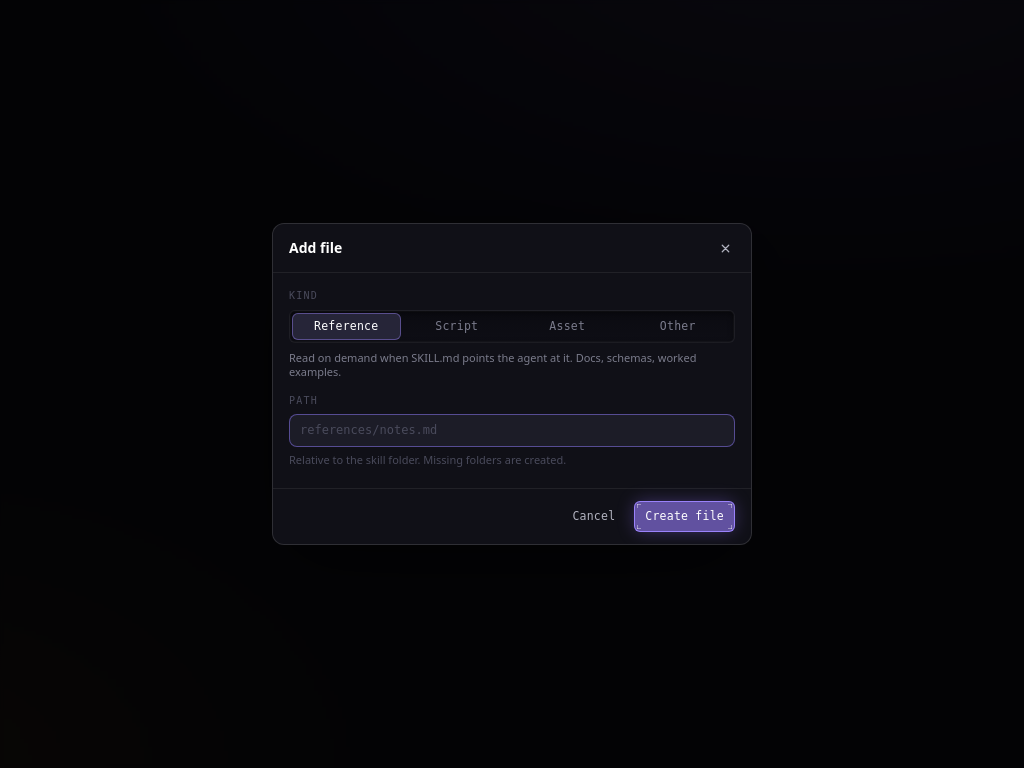
Test: AddSkillFileSheet › refuses an empty name and an escaping name inline, on the input itself
Click the button "Create file". click: (685, 517)
box: x1=634 y1=501 x2=735 y2=532
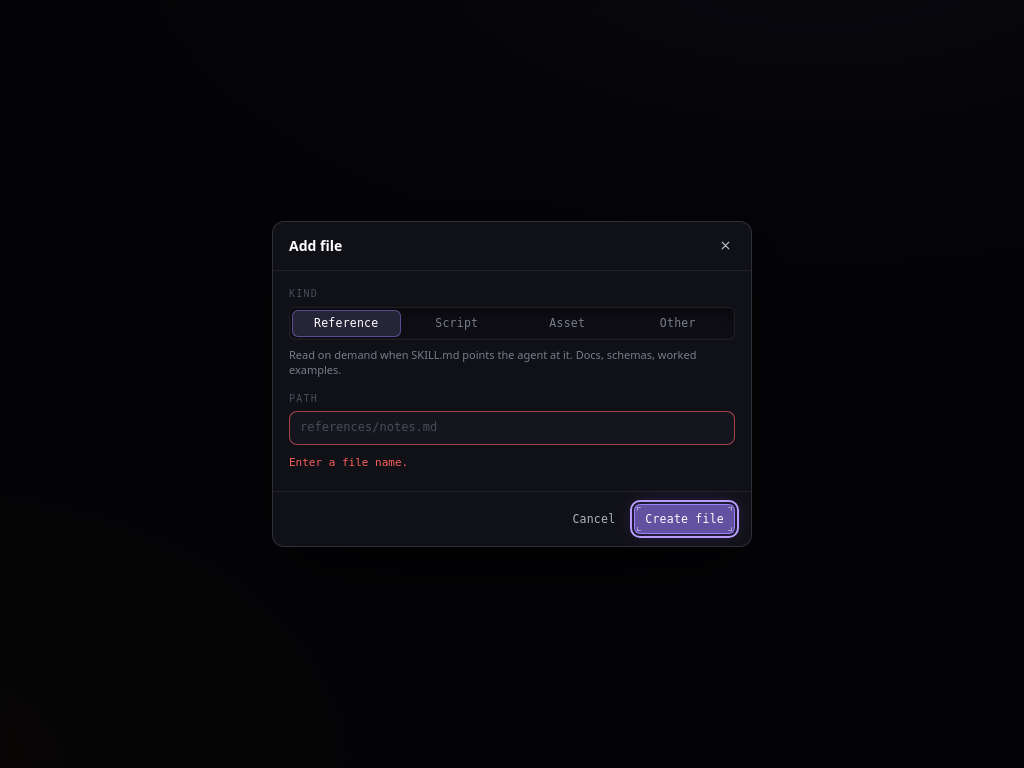
Expected: the message reads "Enter a file name.", x1=289 y1=456 x2=408 y2=469
Type "../SKILL.md" into the field with test id "skill-files-path". click: (557, 428)
box: x1=380 y1=412 x2=734 y2=444
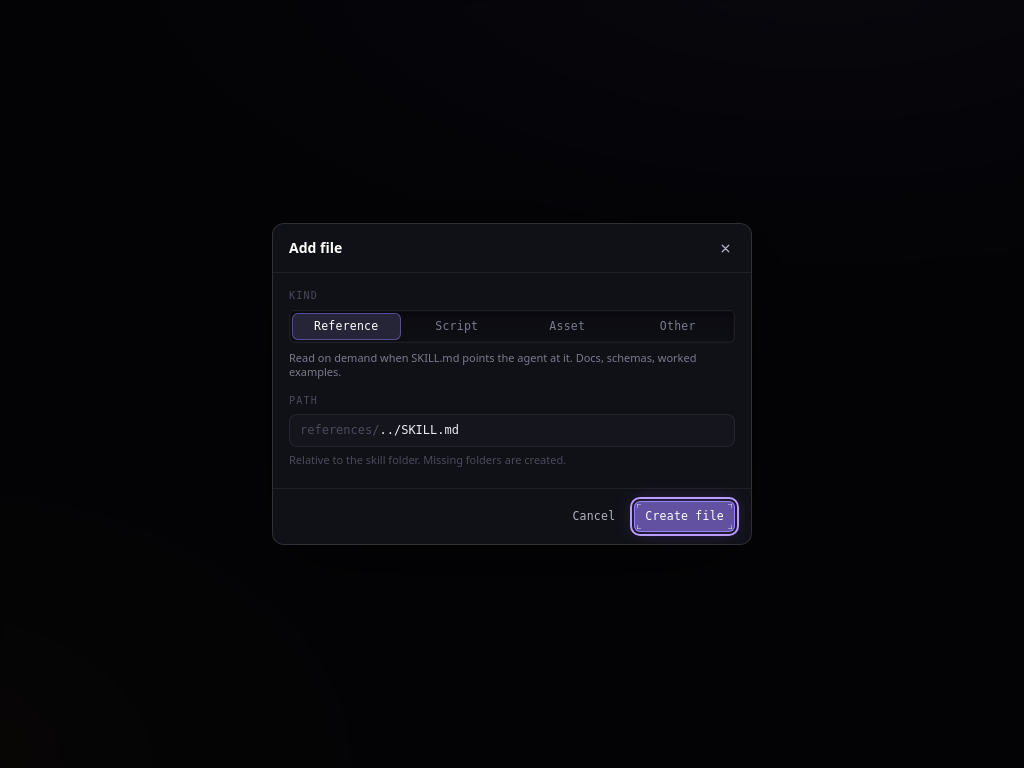
Click the button "Create file". click: (685, 517)
box: x1=634 y1=501 x2=735 y2=532
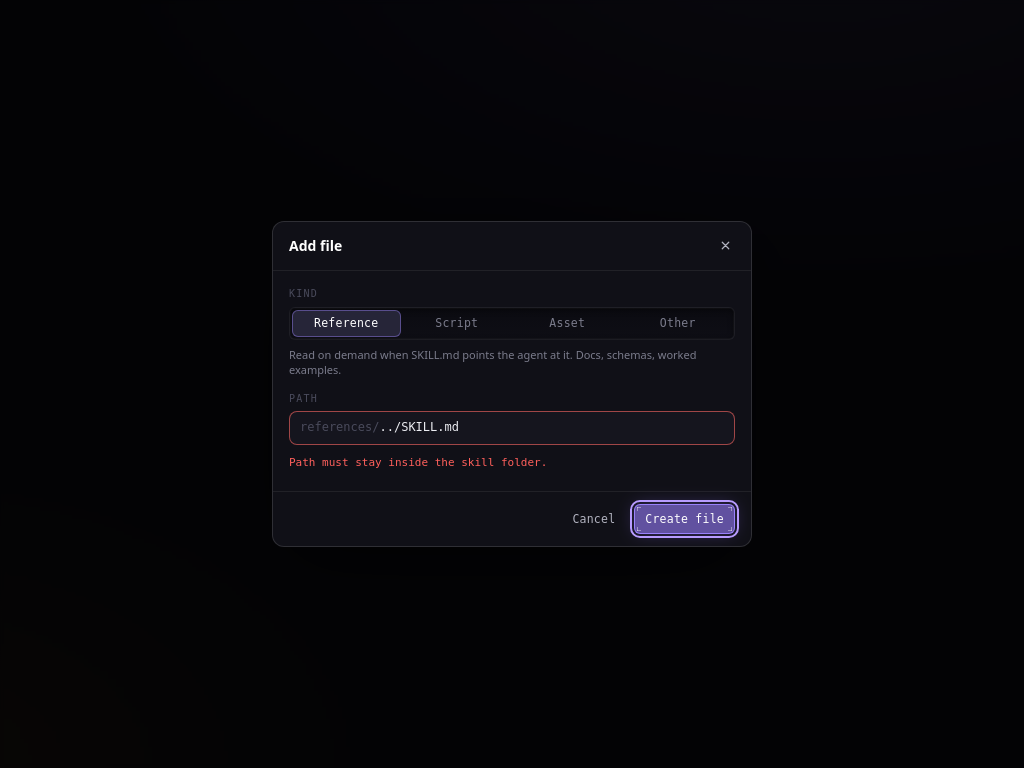
Expected: the message shows "stay inside", x1=289 y1=456 x2=547 y2=469
